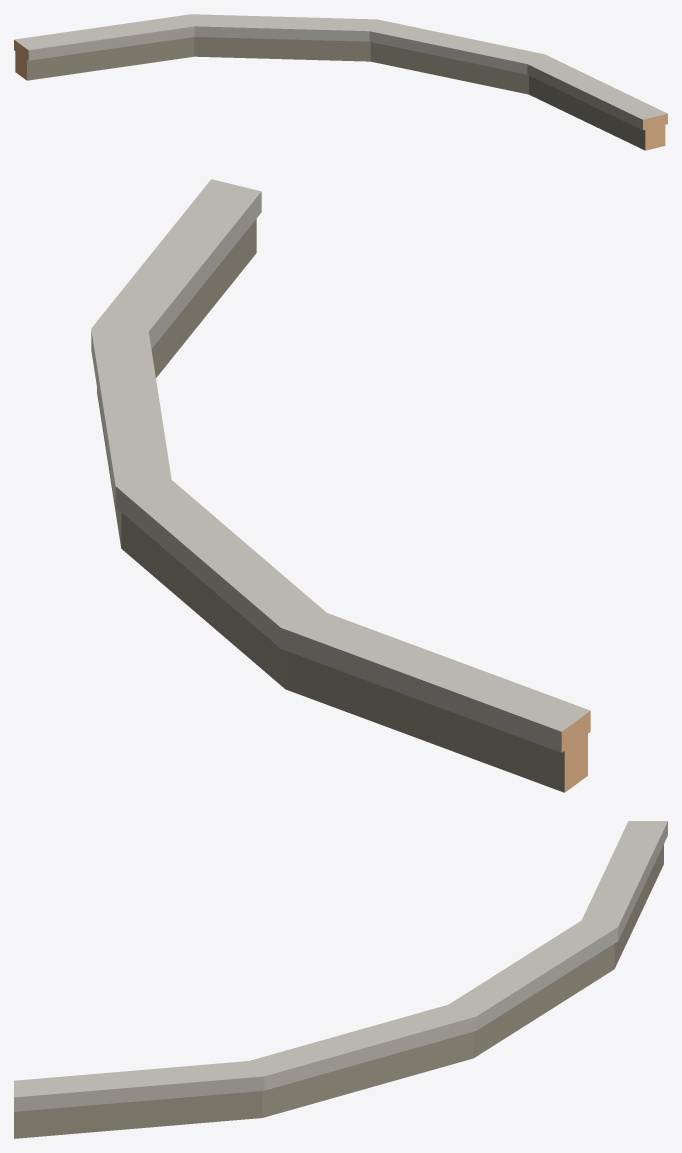
Rendered from Tiered_Retaining_Wall_Flat_Curve_5x5_Top.glb.
3 renders of one model, top to bottom at view 1: azimuth 30°, elevation 25°; view 2: azimuth 150°, elevation 25°; view 3: azimuth 270°, elevation 25°, orthographic. The views are drawn at different scales.
Visible parts, largest first — view 1: Tiered_Retaining_Wall_Flat_Curve_5x5_Top; view 2: Tiered_Retaining_Wall_Flat_Curve_5x5_Top; view 3: Tiered_Retaining_Wall_Flat_Curve_5x5_Top.
Boxes of the visible parts, x1,y1,x2,y2 form: Tiered_Retaining_Wall_Flat_Curve_5x5_Top: (14, 14, 667, 150); Tiered_Retaining_Wall_Flat_Curve_5x5_Top: (91, 179, 590, 792); Tiered_Retaining_Wall_Flat_Curve_5x5_Top: (14, 821, 667, 1138).
Bounding box in the file's own units: 516 × 37.5 × 516.
